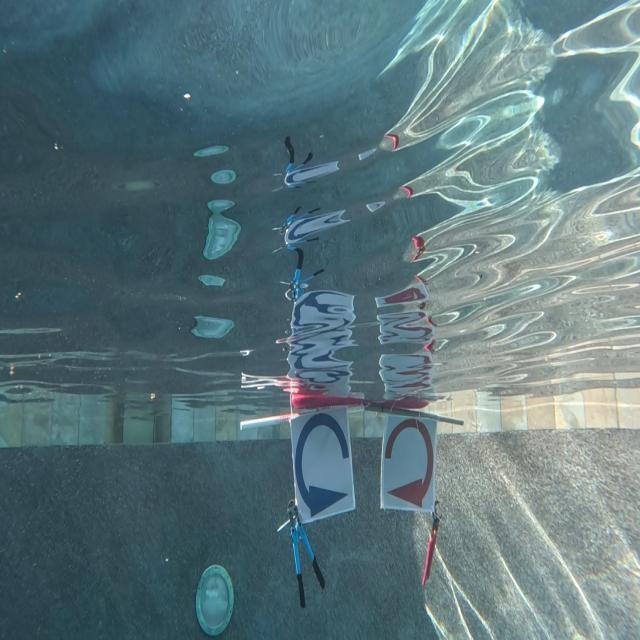blue_side: (289, 414, 360, 522)
red_side: (381, 411, 438, 512)
